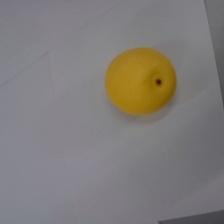yellow: (104, 46, 178, 119)
